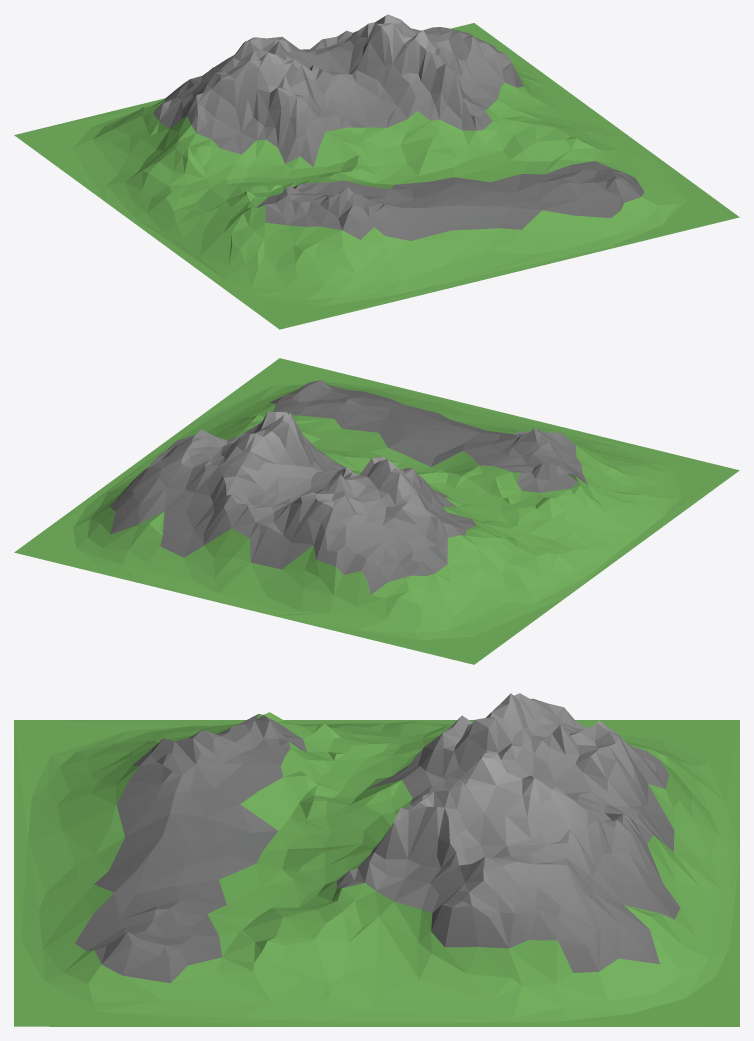
Rendered from SM_Nature_Landscape_08.fbx.
3 views of the same model, one above another, from view 1: azimuth 30°, elevation 25°; view 2: azimuth 150°, elevation 25°; view 3: azimuth 270°, elevation 25° (orthographic). The views are drawn at different scales.
Visible parts, largest first — view 1: SM_Nature_Landscape_08; view 2: SM_Nature_Landscape_08; view 3: SM_Nature_Landscape_08.
Part boxes in pixels (x1,y1,x2,y2): SM_Nature_Landscape_08: [14, 14, 739, 329]; SM_Nature_Landscape_08: [14, 358, 739, 664]; SM_Nature_Landscape_08: [14, 693, 739, 1026].
Size of the model in its own units: 100 by 23.14 by 100.
